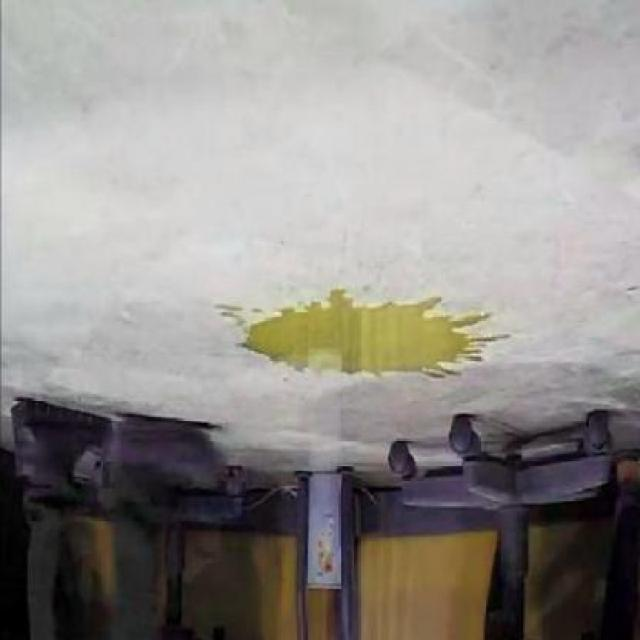spillage: (244, 288, 490, 374)
